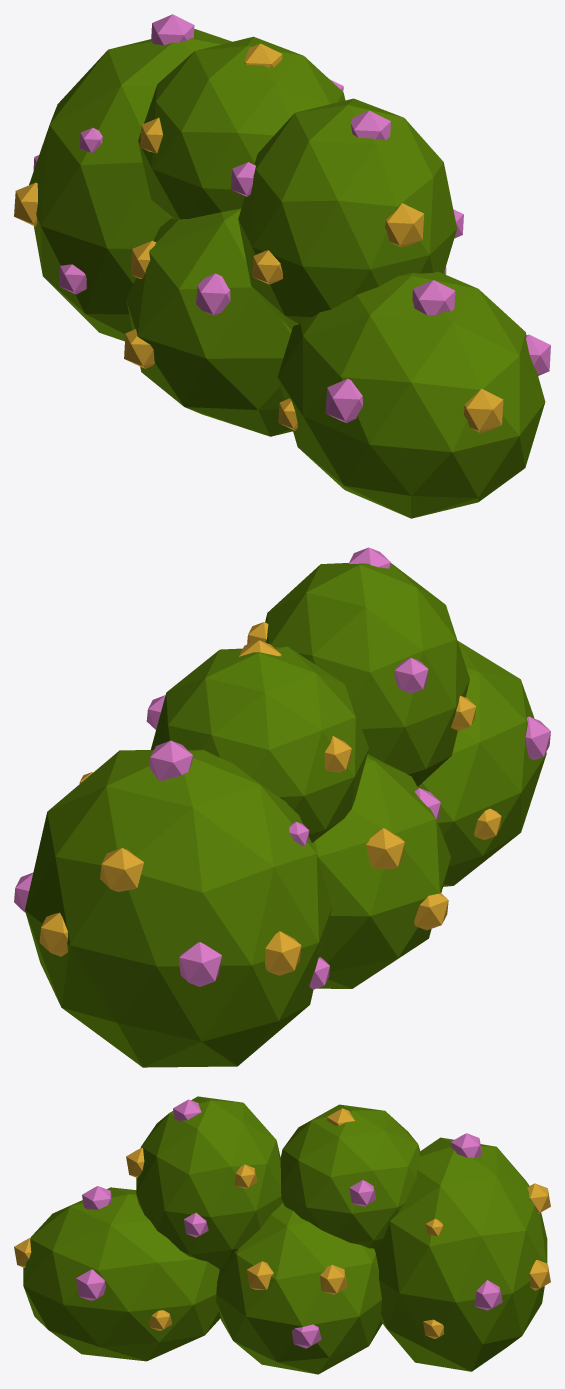
Rendered from Bush_5.glb.
3 renders of one model, top to bottom at view 1: azimuth 30°, elevation 25°; view 2: azimuth 150°, elevation 25°; view 3: azimuth 270°, elevation 25°, orthographic. The views are drawn at different scales.
Visible parts, largest first — view 1: Bush.005; view 2: Bush.005; view 3: Bush.005.
Part boxes in pixels (x1,y1,x2,y2): Bush.005: (14,14,550,518); Bush.005: (14,547,550,1067); Bush.005: (14,1096,550,1374).
Size of the model in its own units: 1.54 by 1.74 by 3.2.
